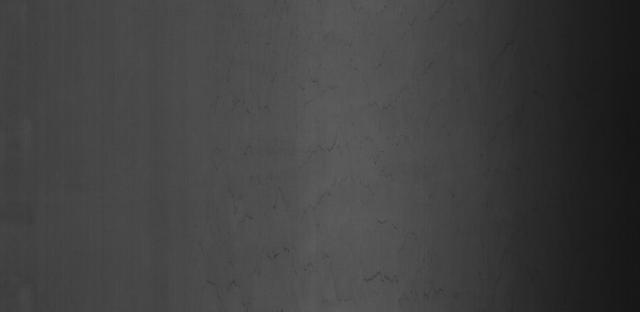silk_spot: (272, 64, 374, 241)
